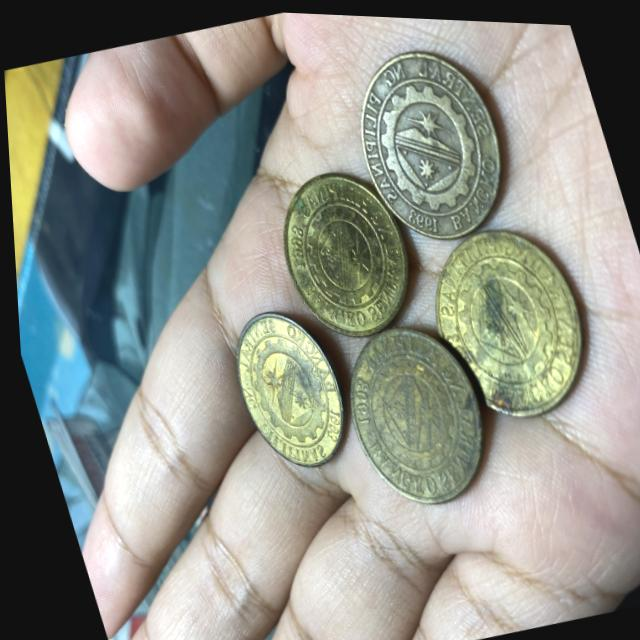25Cent_Old_Back: (403, 215, 605, 432), (335, 25, 524, 247), (258, 154, 430, 347), (329, 317, 481, 506), (216, 305, 353, 477)
